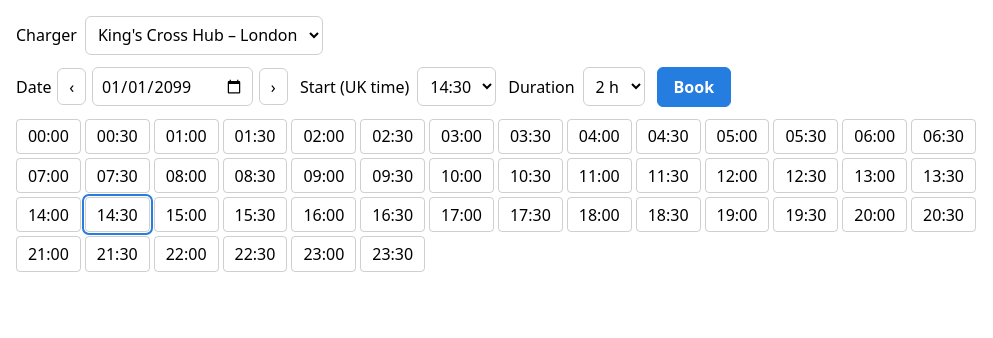
Test: ReservationForm › shows conflict message from backend
Click the button "Book" at (694, 87), box [657,67,731,107]
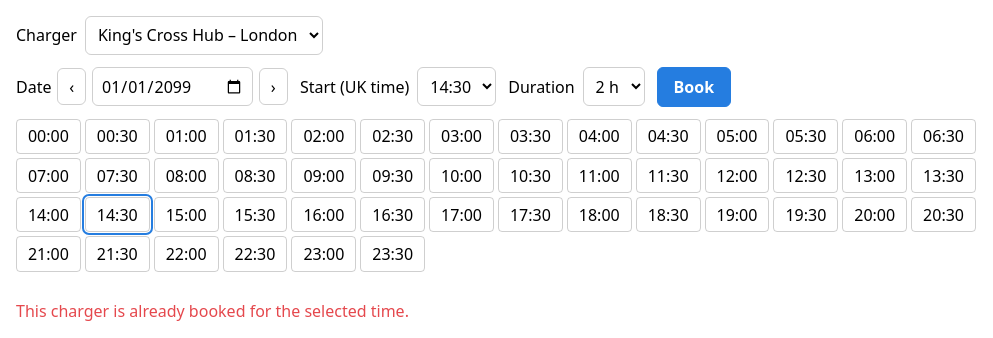
Check: the message reads "This charger is already booked for the selected time.", box [16,300,409,322]
